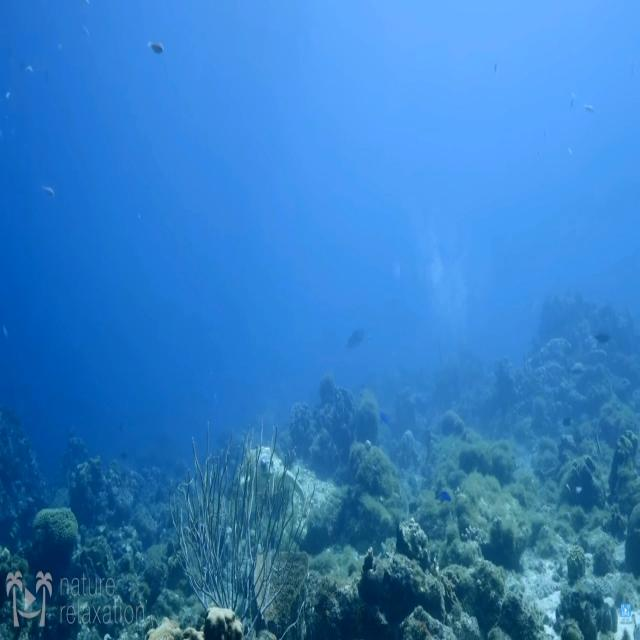Sea turtle: (236, 440, 308, 509)
